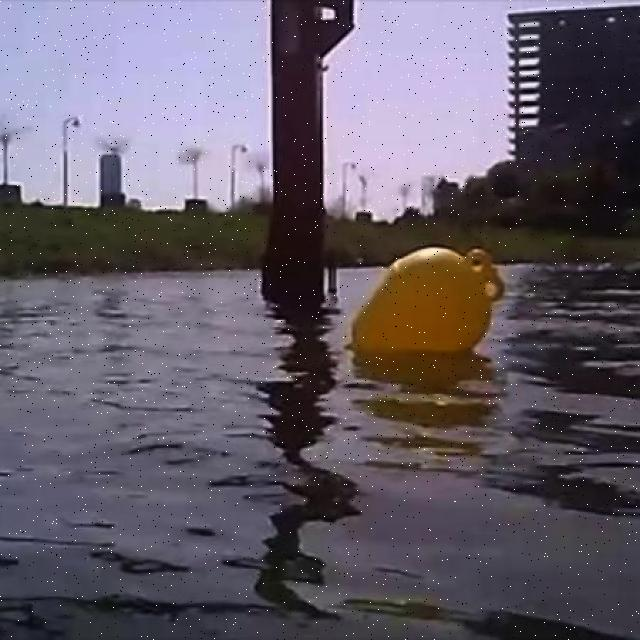buoy: (347, 246, 506, 363)
